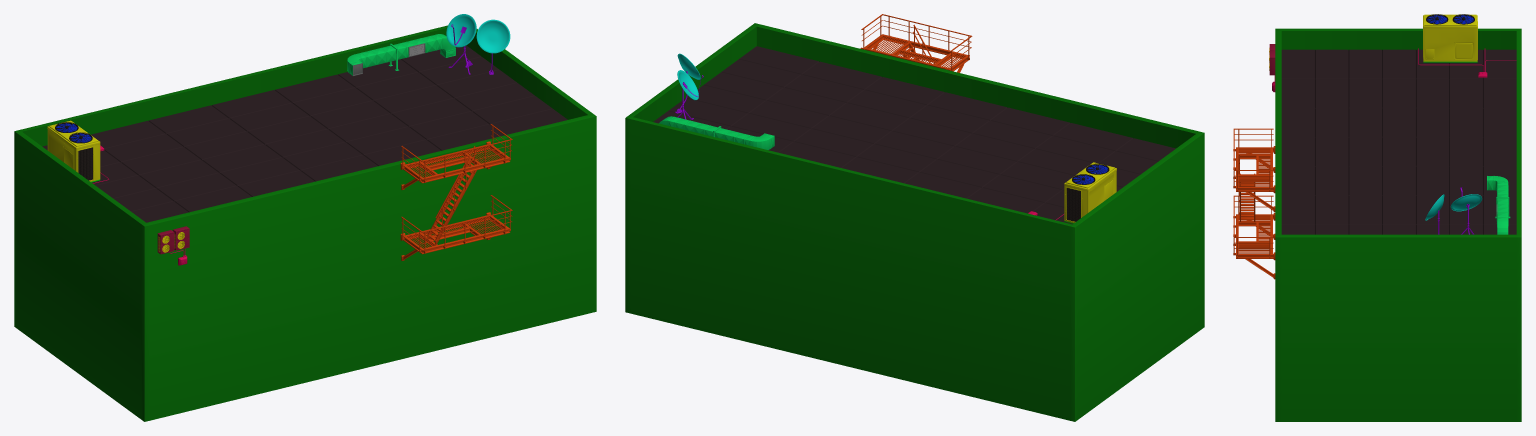
The model's file is RoofTop_Enviroment_v3.fbx.
3 views of the same model, side by side, from view 1: azimuth 30°, elevation 25°; view 2: azimuth 150°, elevation 25°; view 3: azimuth 270°, elevation 25° (orthographic). The views are drawn at different scales.
Parts seen in each view (by area): view 1: polySurface5; view 2: polySurface5; view 3: polySurface5.
Part boxes in pixels (x1,y1,x2,y2): polySurface5: (14,14,596,421); polySurface5: (625,14,1204,421); polySurface5: (1233,14,1521,421).
Bounding box in the file's own units: 2271 × 1111 × 1326.
